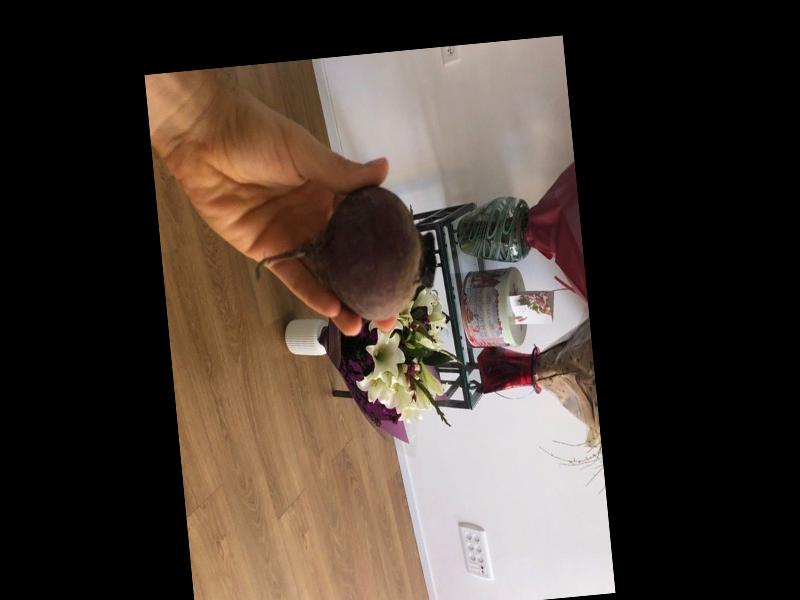Beet: (249, 181, 441, 332)
